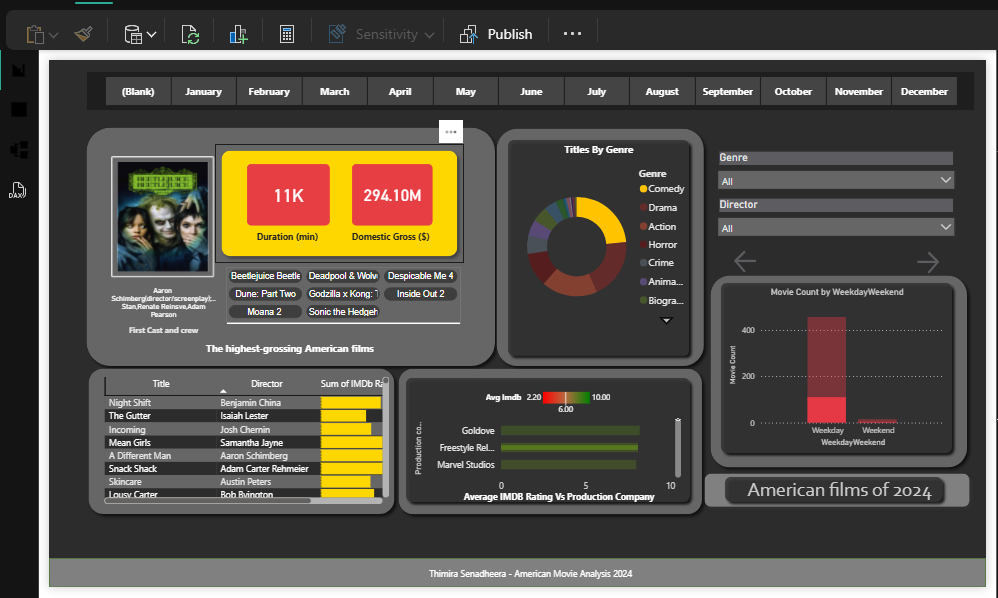

Layout of this report page (visuals, bound fields, positions):
{"tool":"powerbi","page":{"name":"Page 1","canvas":[1280,720],"ordinal":0},"visuals":[{"type":"shape","box":[42.6,83.8,576,343.8],"z":0},{"type":"shape","box":[226.7,114.4,340,162.2],"z":1000},{"type":"card","fields":{"Values":["Sum(preprocessed_movies1. Domestic gross )"]},"box":[413.3,142,110,84.3],"z":2000},{"type":"card","title":"Domestic Gross","fields":{"Values":["Sum(Sheet1.Duration)"]},"box":[270.4,142,112.9,84.3],"z":3000},{"type":"textbox","box":[262.8,226.5,127,28],"z":4000},{"type":"textbox","box":[404.8,226.5,125,28],"z":5000},{"type":"ChicletSlicer1448559807354","fields":{"Category":["Top Movies.Title"]},"box":[238,278,329,87],"z":6000},{"type":"simpleImageEBC4593F96F1425FB3D84C5BF02B5075","fields":{"imageURL":["preprocessed_movies1.Poster URL"]},"box":[84.5,130.5,141.4,165.7],"z":7000},{"type":"card","fields":{"Values":["Min(All Movies.Cast and crew)"]},"box":[78.6,300,154.3,80],"z":8000},{"type":"shape","box":[602.2,84.2,301.1,342.5],"z":9000},{"type":"shape","box":[619.3,101.3,264,311.1],"z":10000},{"type":"donutChart","fields":{"Category":["All Movies.Genre"],"Y":["measures (2).Movie Count"]},"box":[630.7,141.3,252.6,228.3],"z":11000},{"type":"slicer","fields":{"Values":["All Movies.Opening.Variation.Date Hierarchy.Month"]},"box":[51.7,16.7,1211.7,51.7],"z":12000},{"type":"shape","box":[468,412.4,432.4,216.9],"z":13000},{"type":"shape","box":[479.5,426.7,403.8,185.5],"z":14000},{"type":"clusteredBarChart","fields":{"Category":["All Movies.Production company"],"Y":["measures (2).Avg Imdb"]},"box":[495.2,445.2,373.9,154.1],"z":15000},{"type":"textbox","box":[518,629.3,333.9,34.2],"z":16000},{"type":"textbox","box":[585.1,108.5,332.5,34.2],"z":17000},{"type":"textbox","box":[162.9,380,332.9,32.9],"z":18000},{"type":"shape","box":[45.6,412.2,435.6,216.7],"z":19000},{"type":"tableEx","fields":{"Values":["All Movies.Title","All Movies.Director","Sum(All Movies.IMDb Rating)","Sum(Durations.Duration)"]},"box":[70,427.1,400,184.3],"z":20000},{"type":"slicer","fields":{"Values":["All Movies.Genre"]},"box":[903.3,120,345,65],"z":21000},{"type":"shape","box":[895,285,368.3,280],"z":24000},{"type":"shape","box":[910,296.7,331.7,248.3],"z":25000},{"type":"shape","box":[0,680,1280,40],"z":27000},{"type":"textbox","box":[73.3,686.7,1168.3,26.7],"z":28000},{"type":"pieChart","fields":{"Category":["AllMovies.WeekdayWeekend"],"Y":["measures (2).Movie Count"]},"box":[921.7,306.7,315,238.3],"z":29000},{"type":"actionButton","box":[931.7,255,100,40],"z":30000},{"type":"actionButton","box":[1180,256.7,100,40],"z":31000},{"type":"shape","box":[886.7,556.7,380,63.3],"z":32000},{"type":"shape","box":[915,561.7,313.3,50],"z":32500},{"type":"textbox","box":[931.7,565,296.7,45],"z":33000},{"type":"slicer","fields":{"Values":["AllMovies.Director"]},"box":[903.3,185,345,65],"z":33001}]}

Visuals, with their boxes on the page's 1280x720 design canvas (x1, y1, x2, y2). These are canvas units, not pixel positions in the 998x598 screenshot, which may show the page scaled, cropped or inside an application window:
shape: rect(43, 84, 619, 428)
shape: rect(227, 114, 567, 277)
card - Sum(preprocessed_movies1. Domestic gross ): rect(413, 142, 523, 226)
"Domestic Gross" card: rect(270, 142, 383, 226)
textbox: rect(263, 226, 390, 254)
textbox: rect(405, 226, 530, 254)
ChicletSlicer1448559807354 - Top Movies.Title: rect(238, 278, 567, 365)
simpleImageEBC4593F96F1425FB3D84C5BF02B5075 - preprocessed_movies1.Poster URL: rect(84, 130, 226, 296)
card - Min(All Movies.Cast and crew): rect(79, 300, 233, 380)
shape: rect(602, 84, 903, 427)
shape: rect(619, 101, 883, 412)
donutChart - All Movies.Genre x measures (2).Movie Count: rect(631, 141, 883, 370)
slicer - All Movies.Opening.Variation.Date Hierarchy.Month: rect(52, 17, 1263, 68)
shape: rect(468, 412, 900, 629)
shape: rect(480, 427, 883, 612)
clusteredBarChart - All Movies.Production company x measures (2).Avg Imdb: rect(495, 445, 869, 599)
textbox: rect(518, 629, 852, 664)
textbox: rect(585, 108, 918, 143)
textbox: rect(163, 380, 496, 413)
shape: rect(46, 412, 481, 629)
tableEx - All Movies.Title x All Movies.Director: rect(70, 427, 470, 611)
slicer - All Movies.Genre: rect(903, 120, 1248, 185)
shape: rect(895, 285, 1263, 565)
shape: rect(910, 297, 1242, 545)
shape: rect(0, 680, 1280, 720)
textbox: rect(73, 687, 1242, 713)
pieChart - AllMovies.WeekdayWeekend x measures (2).Movie Count: rect(922, 307, 1237, 545)
actionButton: rect(932, 255, 1032, 295)
actionButton: rect(1180, 257, 1280, 297)
shape: rect(887, 557, 1267, 620)
shape: rect(915, 562, 1228, 612)
textbox: rect(932, 565, 1228, 610)
slicer - AllMovies.Director: rect(903, 185, 1248, 250)
